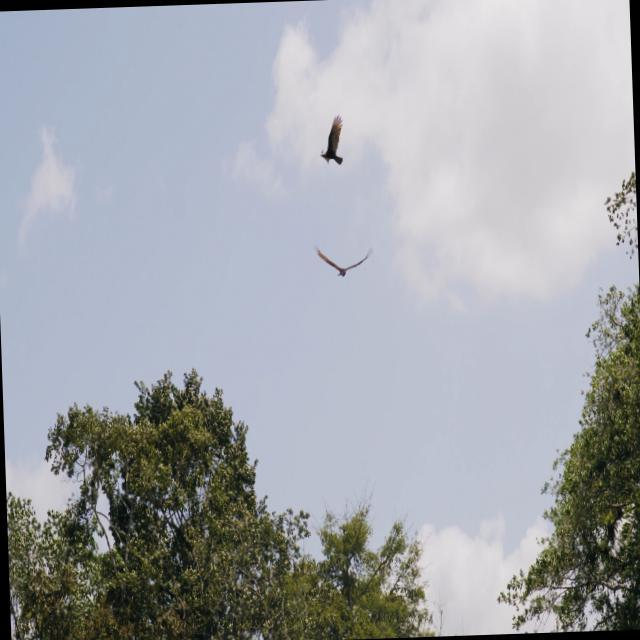bird: (311, 235, 375, 279), (317, 112, 345, 167)
